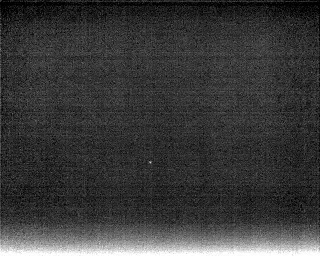BIRD: (147, 158, 154, 167)
